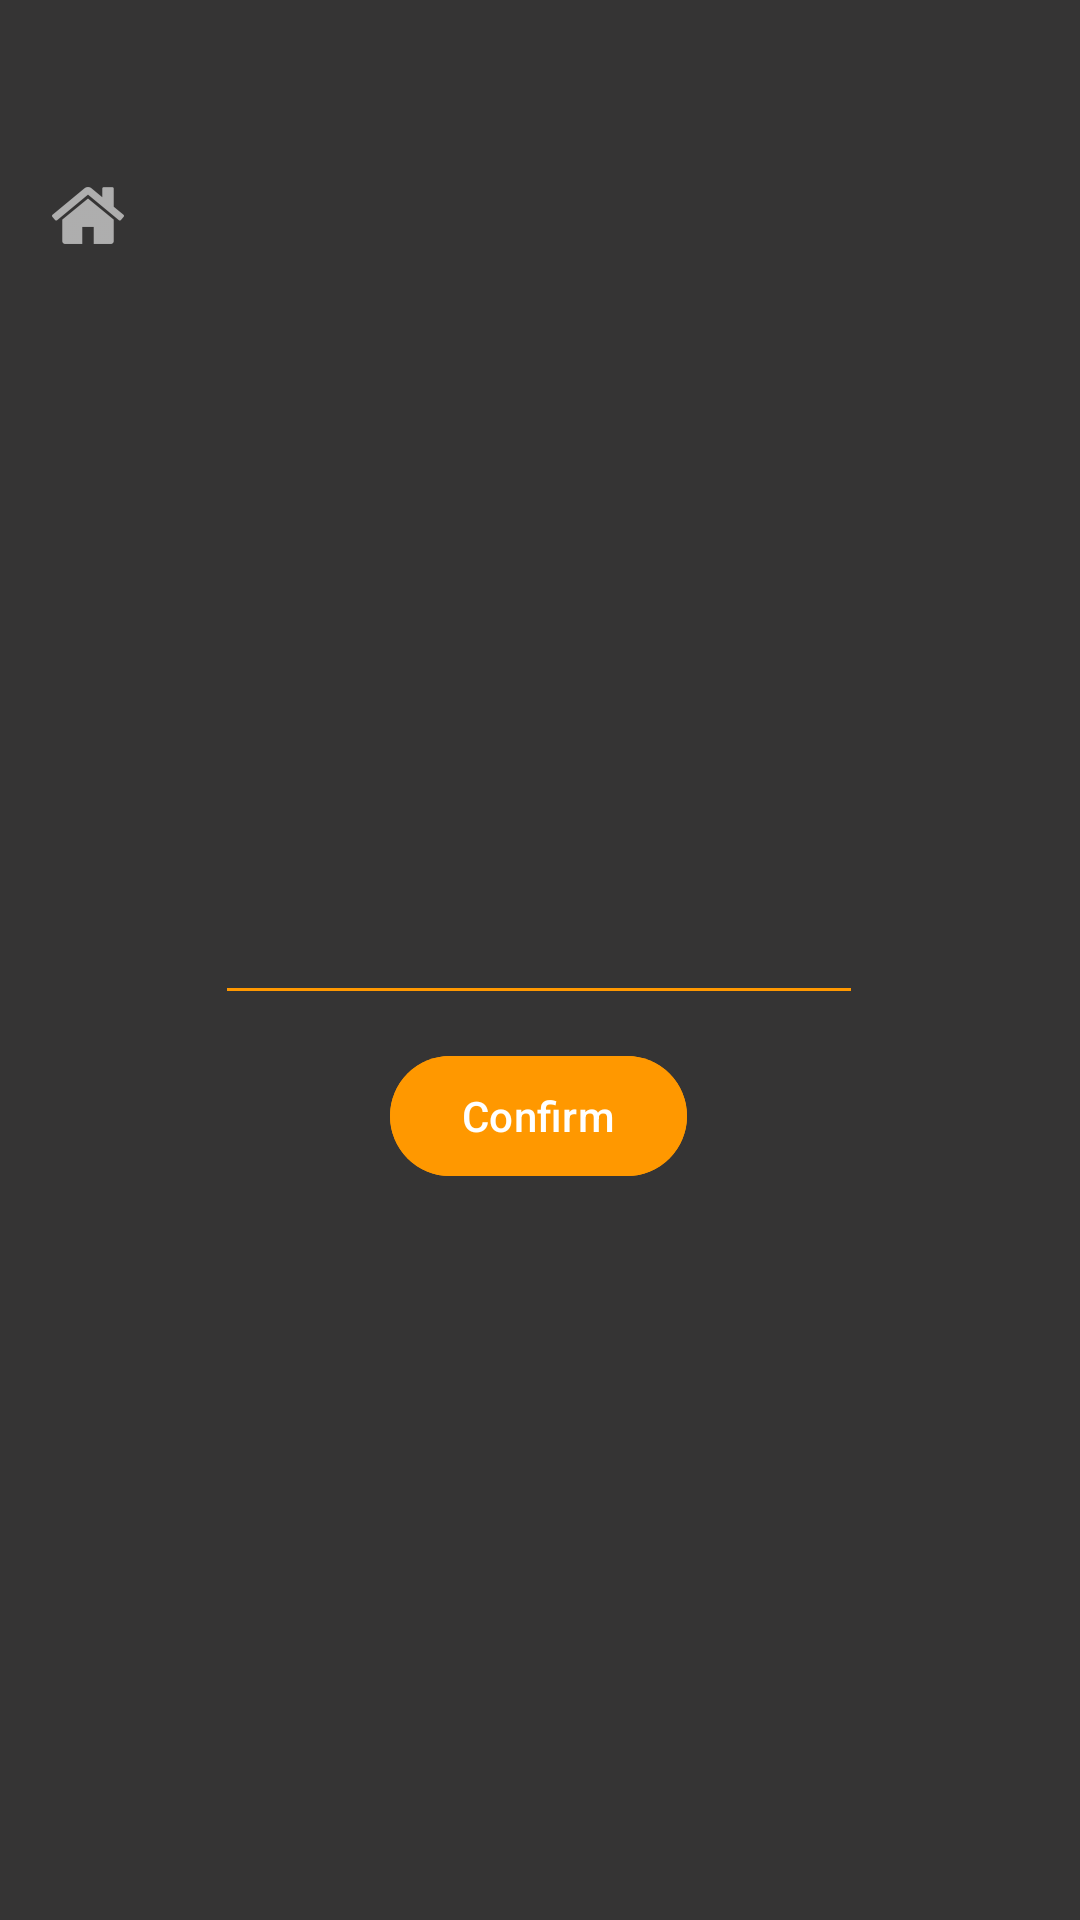

Named icons in this screenshot (1080 × 1920) and their centers, (x=x, y=y):
Home: (x=88, y=215)
